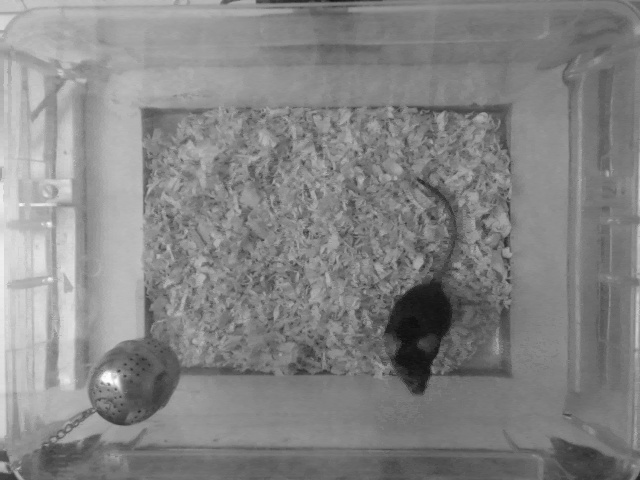mice: (384, 176, 462, 394)
